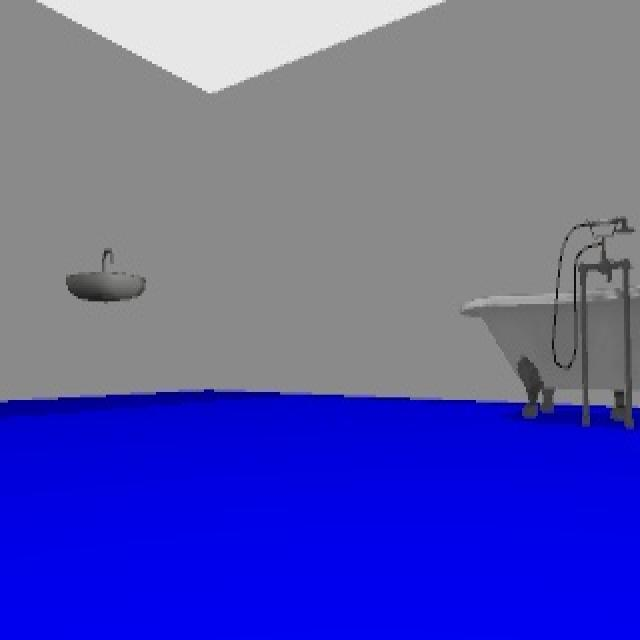bathtub: (460, 219, 638, 424)
